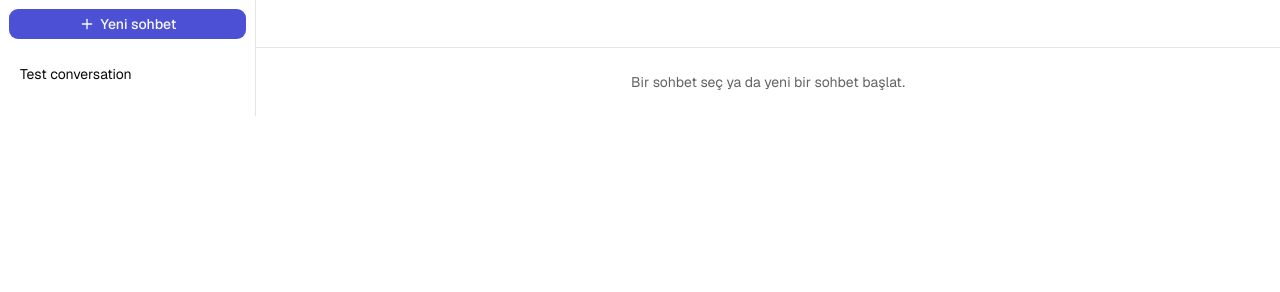
Scenario: ChatView › shows an optimistic user message immediately and reconciles after the stream ends
The image size is (1280, 292).
Click the button "Test conversation" at (128, 74), box [8, 56, 247, 92]
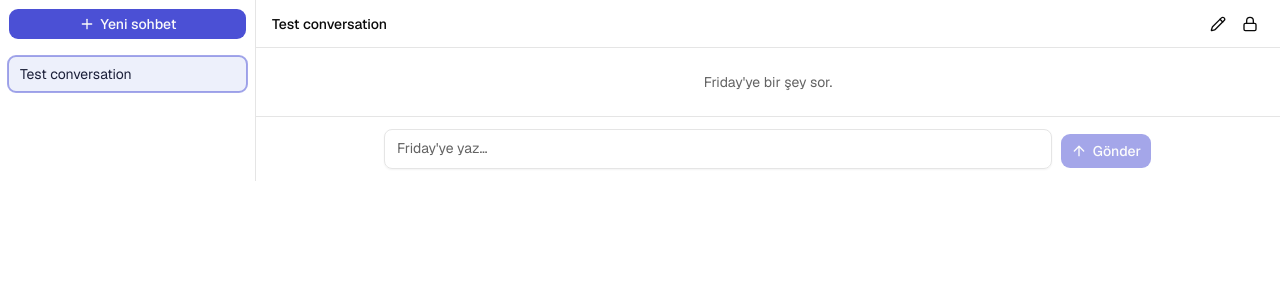
Expected: the text box with placeholder "Friday'ye yaz…" is shown
Type "Hi there" into the text box with placeholder "Friday'ye yaz…" at (718, 149), box [384, 129, 1052, 169]
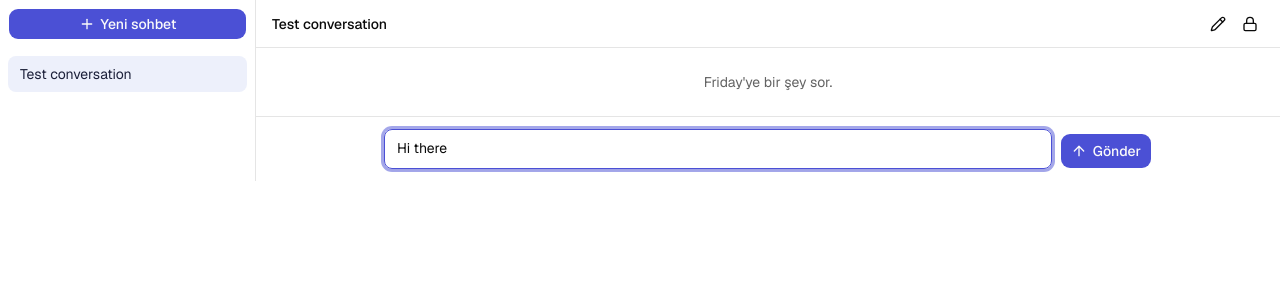
Click the button "Gönder" at (1106, 151), box [1060, 133, 1152, 169]
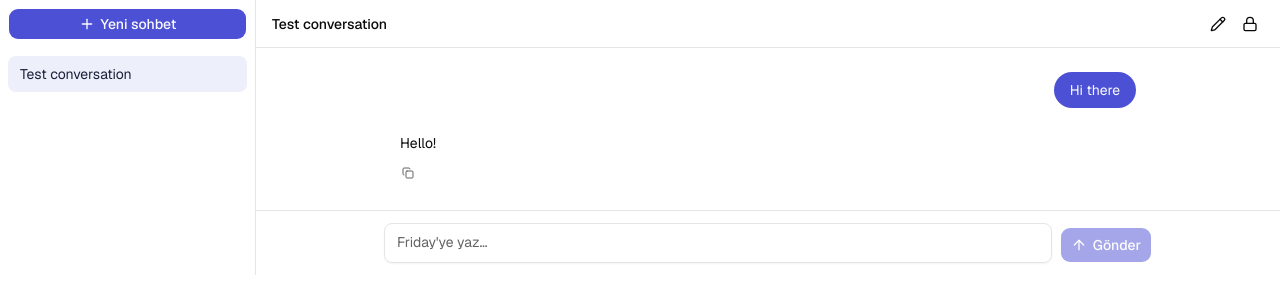
Expected: the text "Hi there" is shown once, [1054, 72, 1136, 108]
Expected: the text "Hello!" is shown once, [400, 134, 436, 152]
